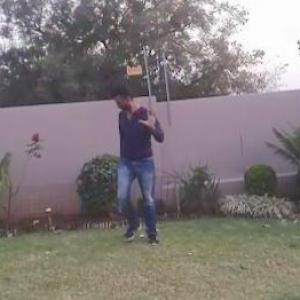follow_hand: (138, 102, 162, 129)
